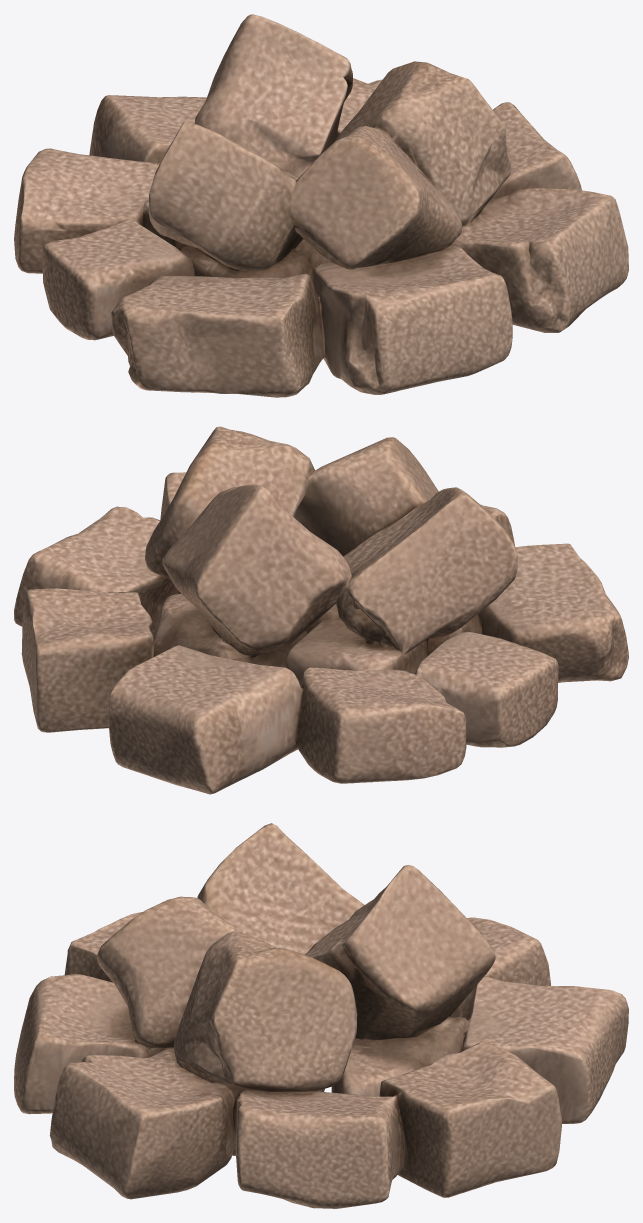
Rendered from CarneCerdo_Cocida.fbx.
The picture shows the model from 3 angles, top to bottom: view 1: azimuth 30°, elevation 25°; view 2: azimuth 150°, elevation 25°; view 3: azimuth 270°, elevation 25°; orthographic projection.
Parts seen in each view (by area): view 1: Mesh_0; view 2: Mesh_0; view 3: Mesh_0.
Boxes of the visible parts, x1,y1,x2,y2 form: Mesh_0: (14,14,628,397); Mesh_0: (14,426,628,794); Mesh_0: (14,823,628,1208).
Bounding box in the file's own units: 181 × 81.38 × 190.
Materials: 1 (1 with a texture image).
